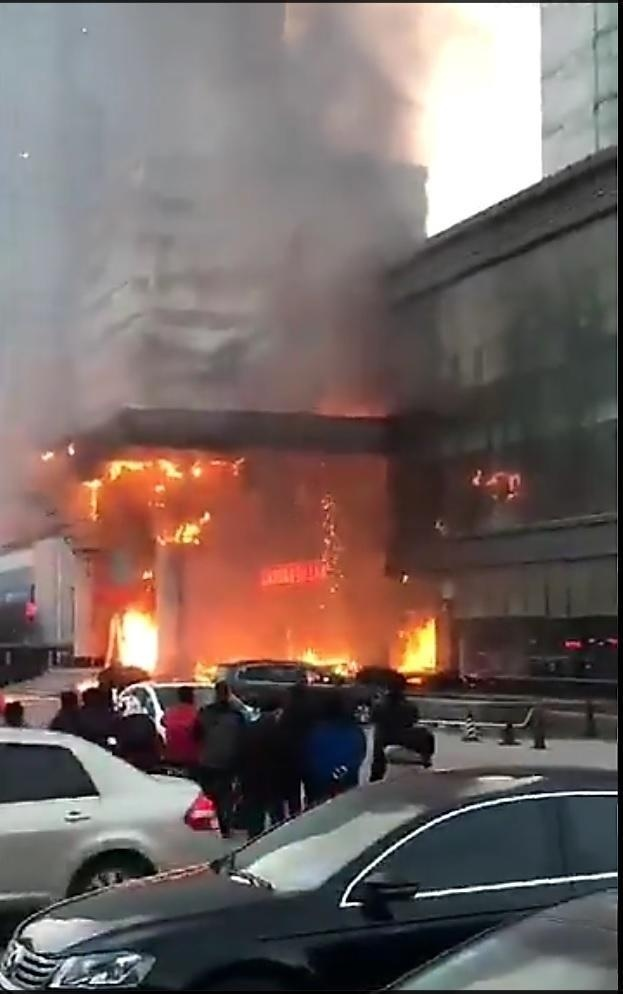fire: (78, 449, 225, 547), (108, 603, 161, 672), (389, 611, 442, 677), (289, 639, 359, 682)
